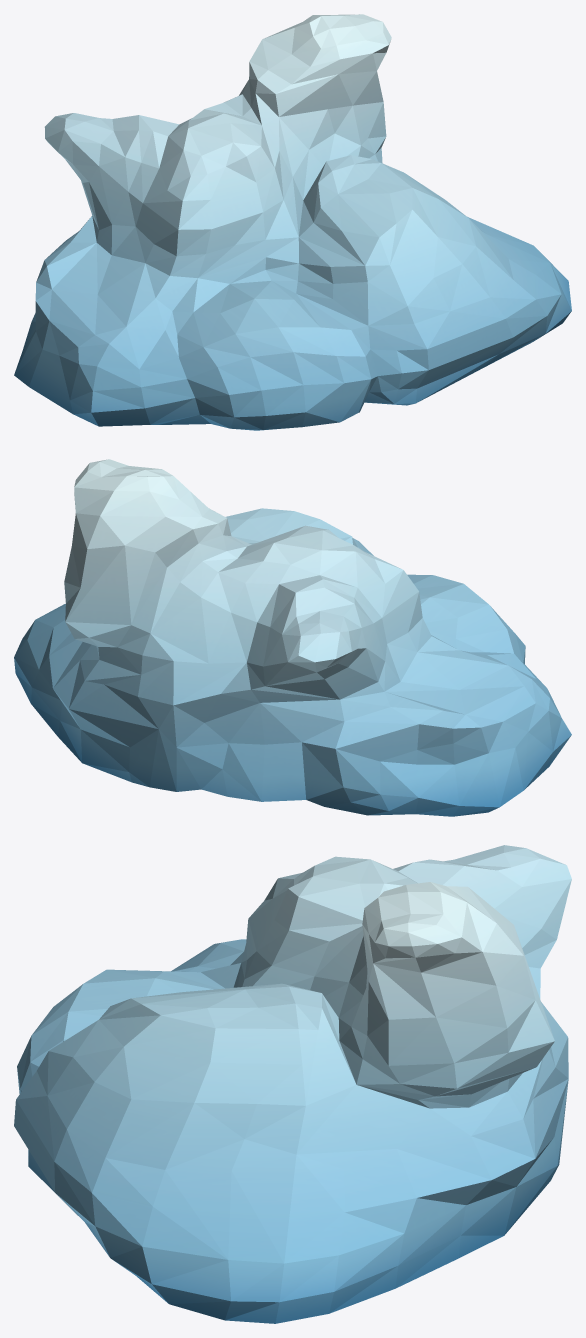
File: Jungle_Clouds_Lrg_C.fbx
3 renders of one model, top to bottom at view 1: azimuth 30°, elevation 25°; view 2: azimuth 150°, elevation 25°; view 3: azimuth 270°, elevation 25°, orthographic. The views are drawn at different scales.
Parts seen in each view (by area): view 1: Jungle_Clouds_Lrg_C; view 2: Jungle_Clouds_Lrg_C; view 3: Jungle_Clouds_Lrg_C.
Boxes of the visible parts, x1,y1,x2,y2 form: Jungle_Clouds_Lrg_C: (14,14,571,430); Jungle_Clouds_Lrg_C: (14,459,571,816); Jungle_Clouds_Lrg_C: (14,845,571,1323).
Size of the model in its own units: 1952 by 1010 by 1485.
Materials: 1 (1 with a texture image).
